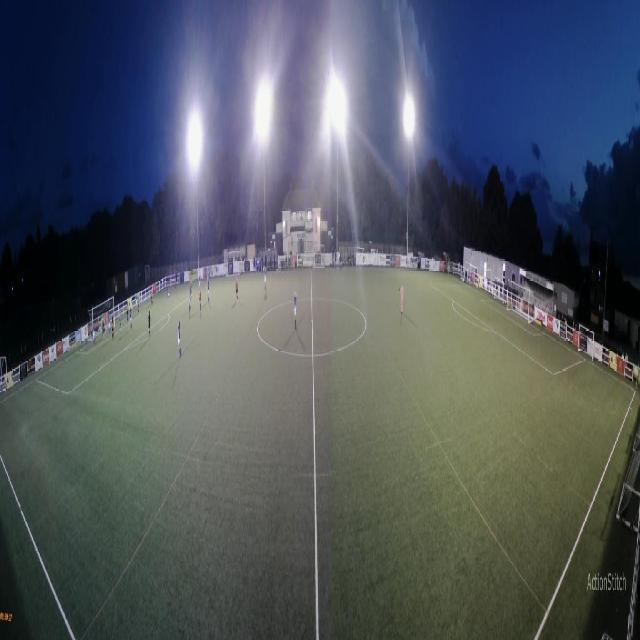player: (177, 321, 181, 358), (399, 284, 403, 315), (294, 291, 297, 331), (148, 310, 151, 338), (264, 266, 267, 294), (235, 276, 238, 303), (108, 310, 111, 336), (199, 286, 202, 312), (111, 317, 114, 341), (119, 307, 122, 331), (129, 308, 132, 330), (103, 313, 106, 334), (207, 276, 209, 304), (93, 323, 95, 345), (102, 316, 104, 338), (127, 302, 129, 324), (189, 289, 191, 311), (101, 314, 103, 335), (151, 287, 153, 306), (138, 297, 140, 315), (190, 276, 192, 291), (199, 274, 201, 288), (168, 286, 170, 298)
